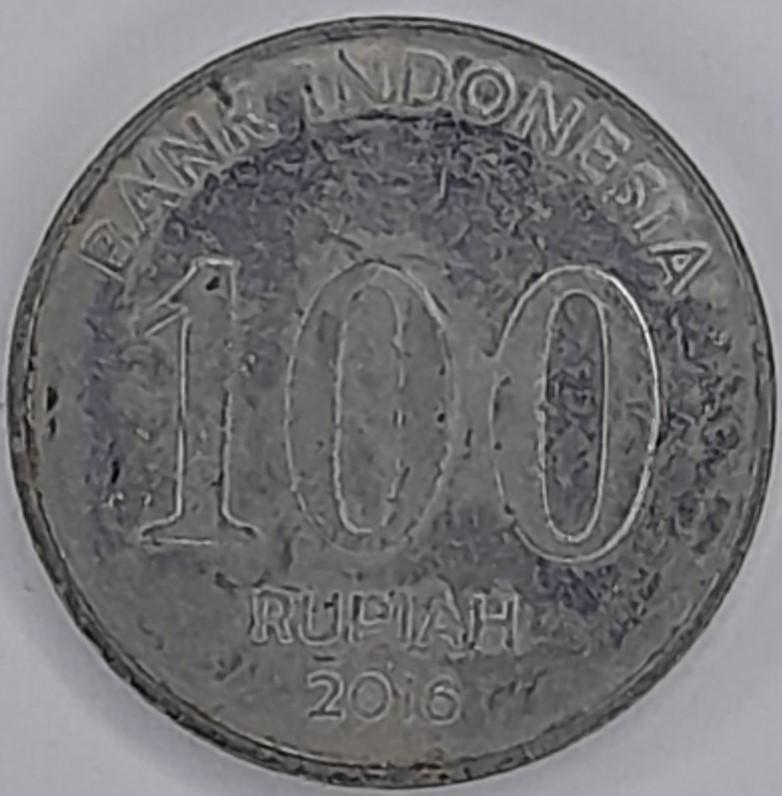coin_100_e2016: (0, 9, 781, 792)
